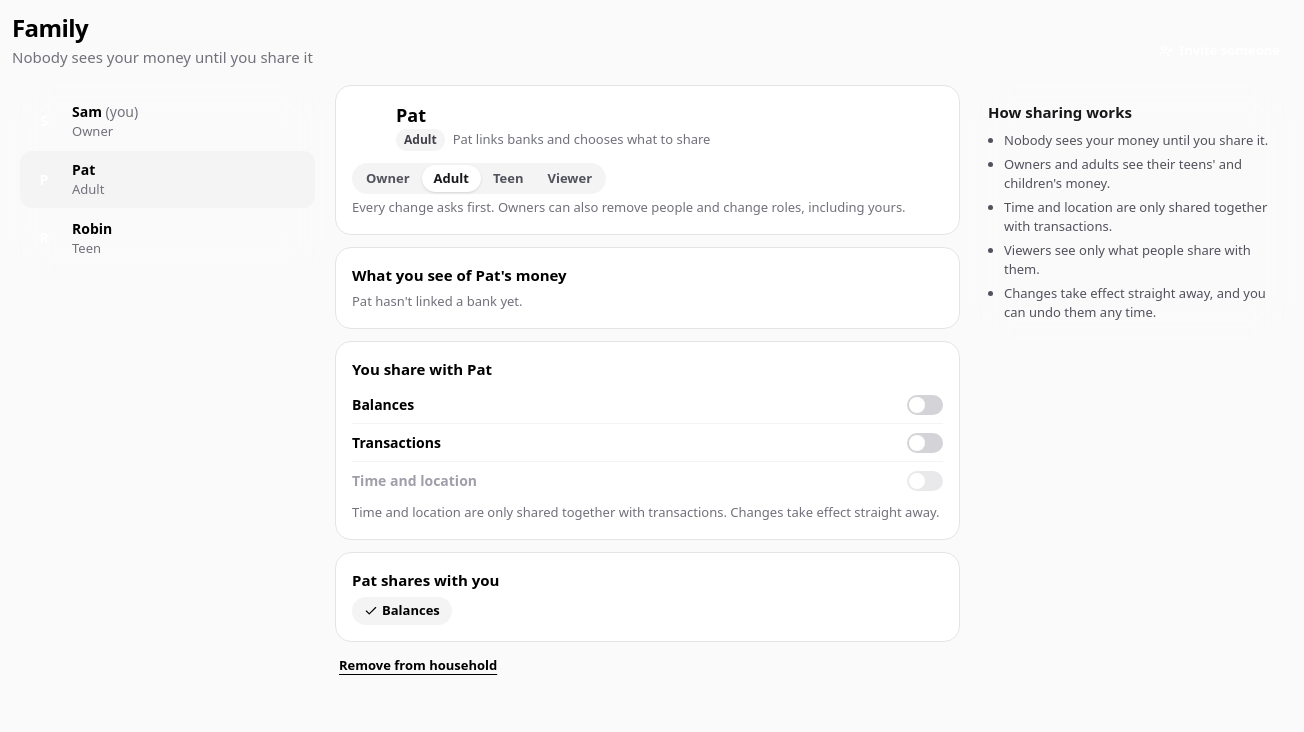
Test case: FamilyPage › nobody shares with teens: no switches for Robin
Click the text "Robin" at [92, 228], box [72,218,112,238]
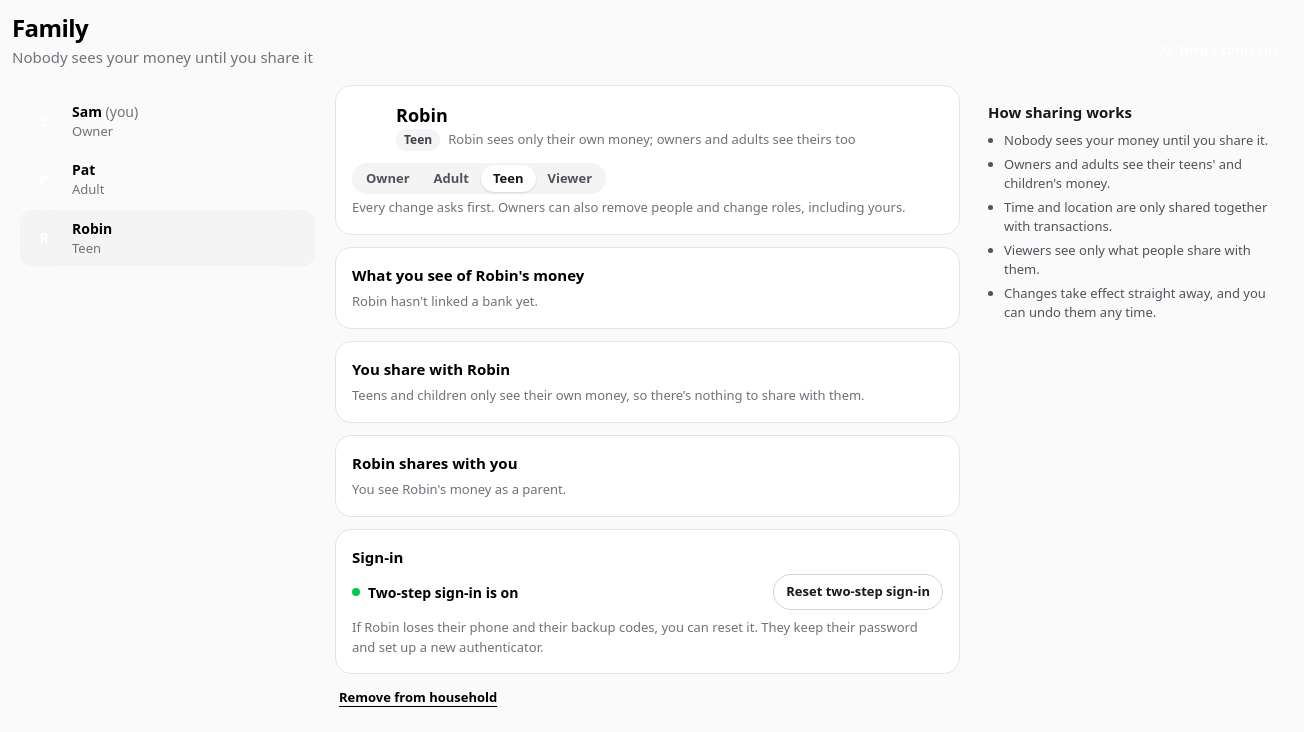
Check: the text "Teens and children only see their own money" is shown, box [352,386,865,404]
